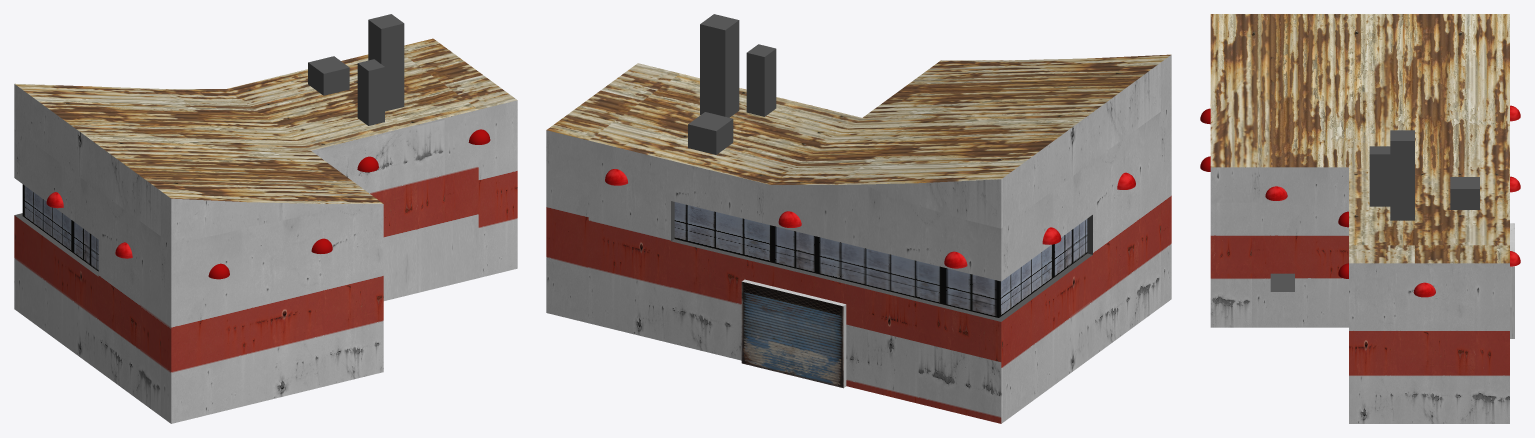
The model's file is factoryExported.fbx.
3 renders of one model, left to right at view 1: azimuth 30°, elevation 25°; view 2: azimuth 150°, elevation 25°; view 3: azimuth 270°, elevation 25°, orthographic. The views are drawn at different scales.
Parts seen in each view (by area): view 1: factoryCombined; view 2: factoryCombined; view 3: factoryCombined.
Part boxes in pixels (left/top/right/bottom): factoryCombined: left=14, top=14, right=517, bottom=423; factoryCombined: left=546, top=14, right=1171, bottom=423; factoryCombined: left=1200, top=14, right=1520, bottom=423.
Bounding box in the file's own units: 24.91 × 13.63 × 16.49.
